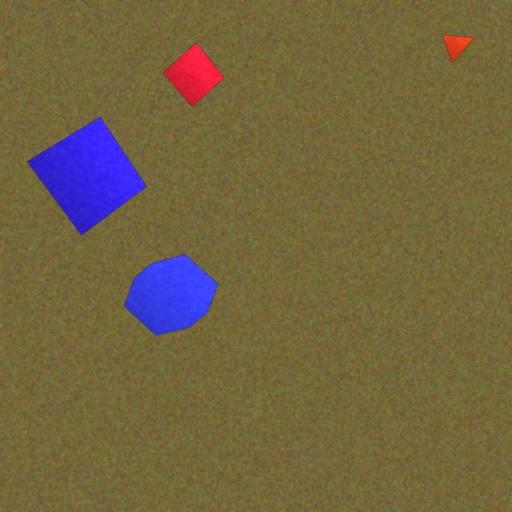BLUE_SQUARE: (26, 116, 148, 236)
RED_SQUARE: (162, 42, 224, 108)
